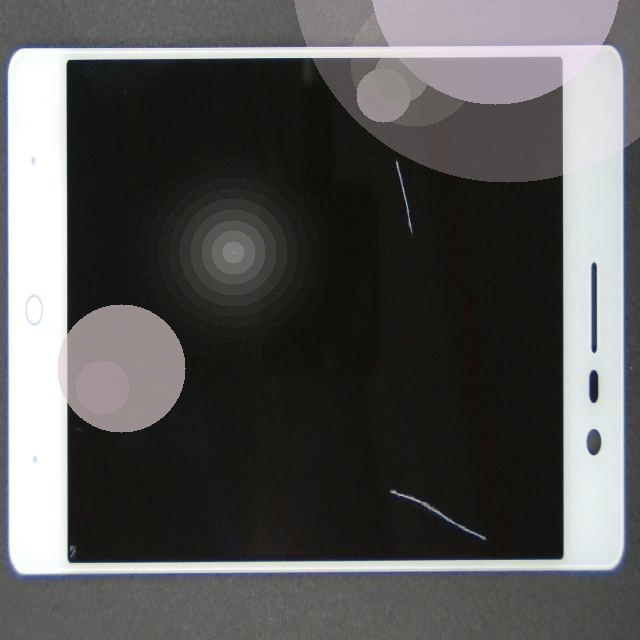scratch: (309, 297, 640, 640), (212, 150, 635, 336)
